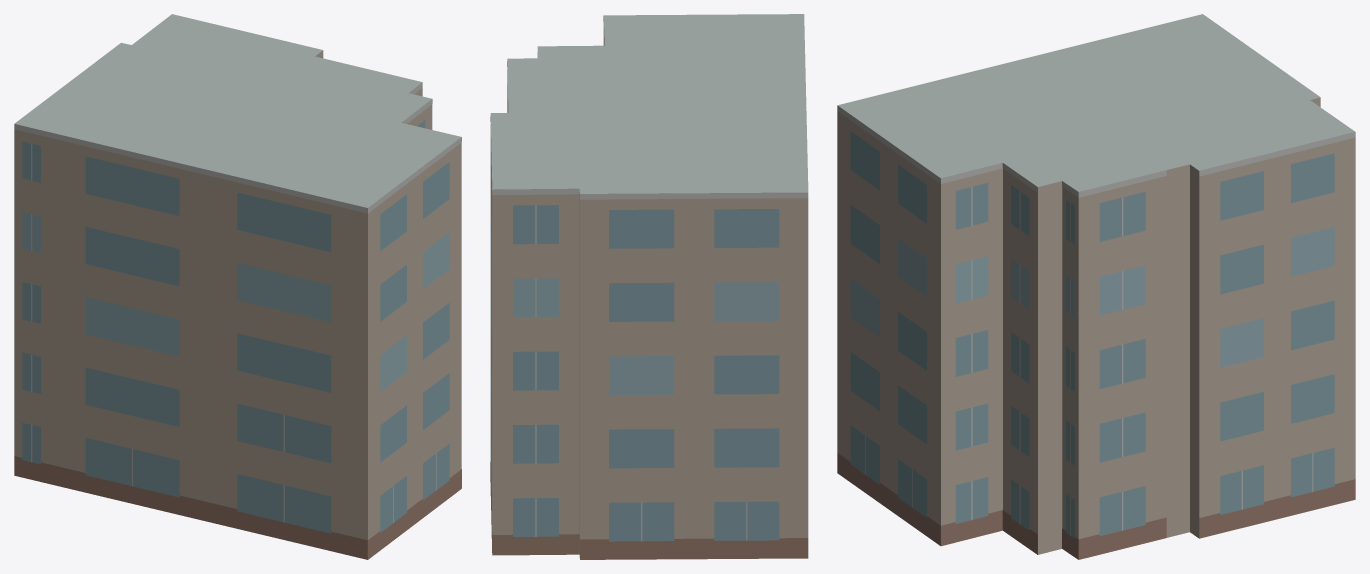
File: survey-upis-32525815.glb
The picture shows the model from 3 angles, left to right: view 1: azimuth 30°, elevation 25°; view 2: azimuth 150°, elevation 25°; view 3: azimuth 270°, elevation 25°; orthographic projection. The views are drawn at different scales.
Parts seen in each view (by area): view 1: survey-upis-32525815.tmp; view 2: survey-upis-32525815.tmp; view 3: survey-upis-32525815.tmp.
Part boxes in pixels (left/top/right/bottom): survey-upis-32525815.tmp: left=14, top=14, right=461, bottom=559; survey-upis-32525815.tmp: left=490, top=14, right=808, bottom=559; survey-upis-32525815.tmp: left=837, top=14, right=1355, bottom=559.
Bounding box in the file's own units: 16.31 × 15.7 × 20.05.
